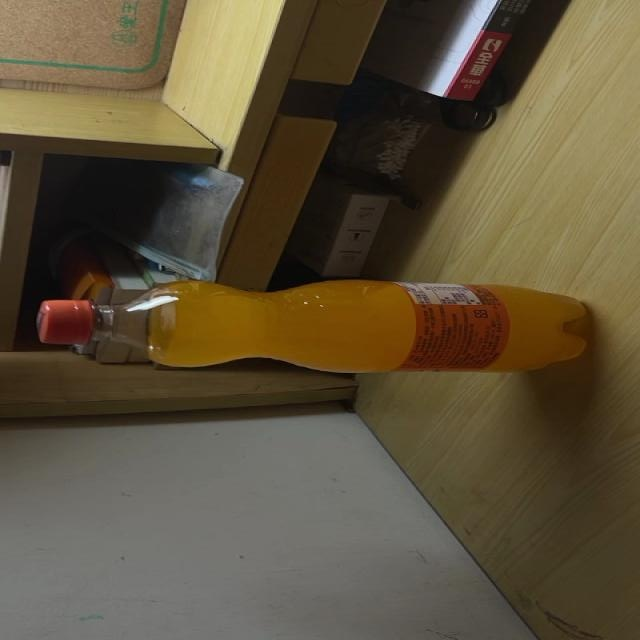Fanta: (38, 279, 588, 373)
